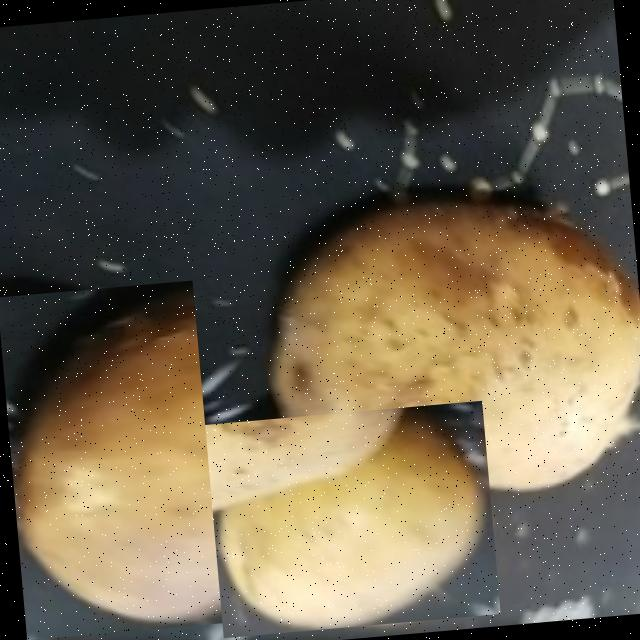Damaged potato: (246, 169, 640, 512)
Potato: (0, 280, 222, 640), (204, 400, 500, 638)
